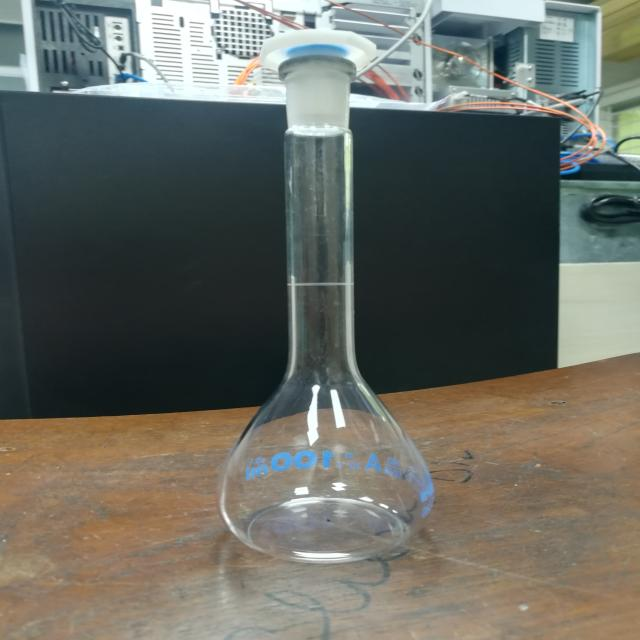Volumetric_Flask: (190, 5, 457, 594)
